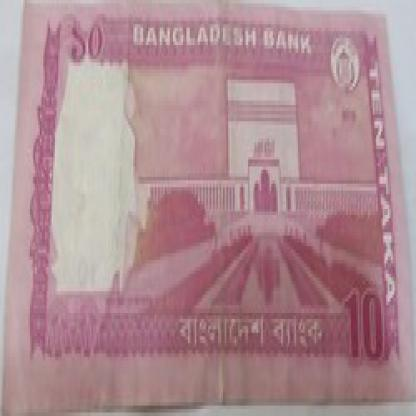Ten Taka: (58, 14, 128, 83), (338, 278, 386, 374)
